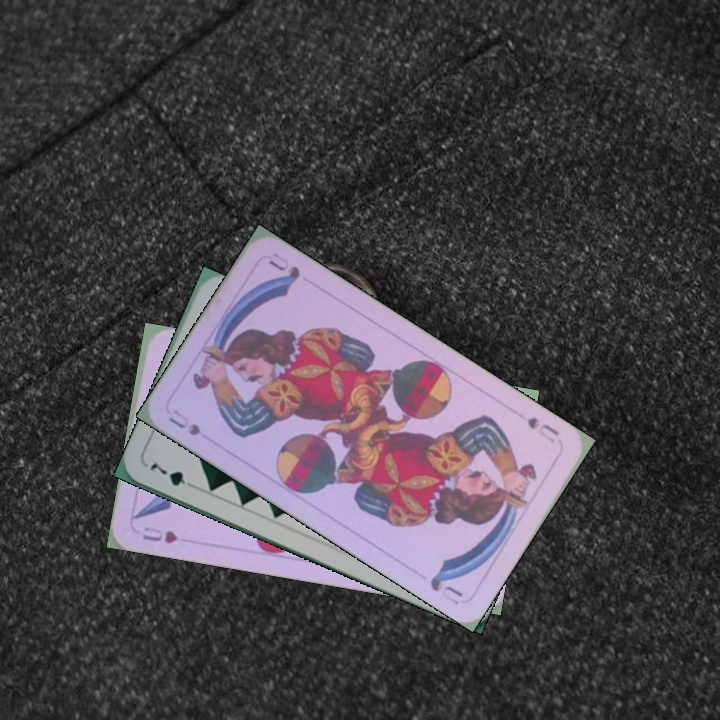G7: (145, 459, 200, 492)
HU: (138, 522, 181, 547)
SU: (164, 405, 204, 438), (523, 412, 562, 445)
